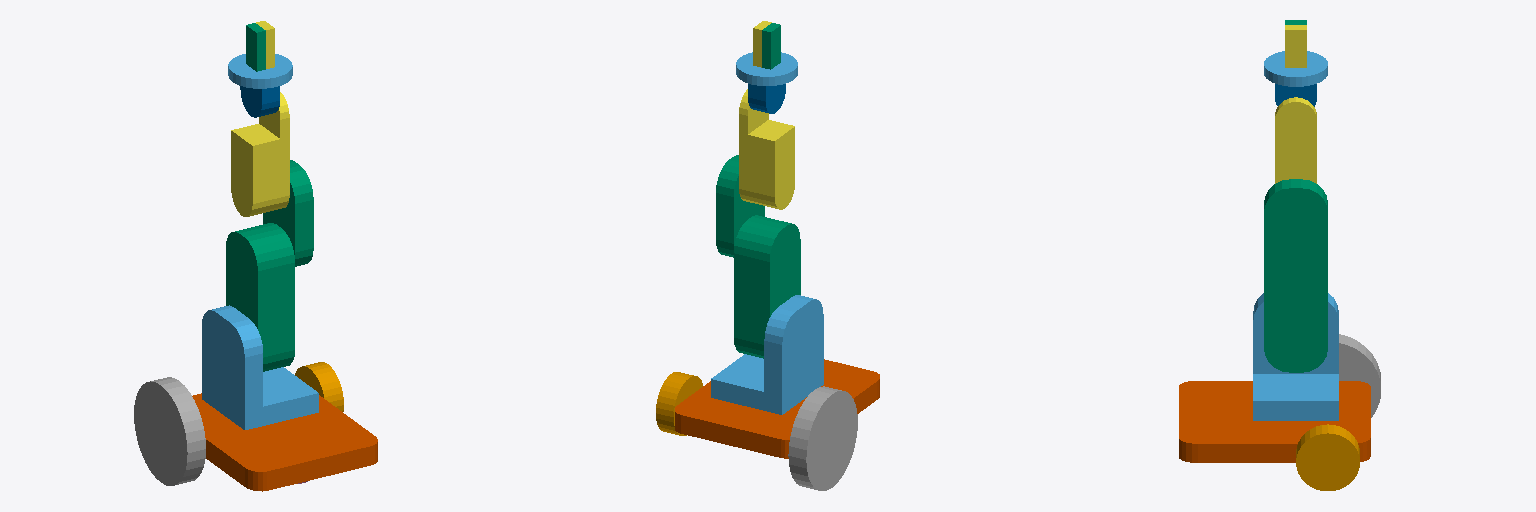
robot.urdf — robotics-project:
<robot name="robotics-project" version="1.0">
  <joint name="arm_base_link_joint" type="fixed">
    <origin rpy="0.00000 0.00000 0.00000" xyz="0.00000 0.40000 0.20000"/>
    <parent link="base_body_link"/>
    <child link="arm_base_link"/>
  </joint>
  <joint name="arm_lower_link_joint" type="continuous">
    <limit lower="0.00000" upper="0.00000" effort="0.00000" velocity="0.00000"/>
    <origin rpy="0.00000 0.00000 0.00000" xyz="0.00000 0.00000 0.20000"/>
    <parent link="arm_base_link"/>
    <child link="arm_lower_link"/>
    <axis xyz="0.00000 0.00000 1.00000"/>
  </joint>
  <joint name="arm_mid_link_joint" type="revolute">
    <limit lower="-3.14000" upper="3.14000" effort="0.00000" velocity="0.00000"/>
    <origin rpy="0.00000 0.00000 0.00000" xyz="0.00000 -0.00000 1.40000"/>
    <parent link="arm_lower_link"/>
    <child link="arm_mid_link"/>
    <axis xyz="1.00000 0.00000 0.00000"/>
  </joint>
  <joint name="arm_upper_link_joint" type="revolute">
    <limit lower="-3.14000" upper="3.14000" effort="0.00000" velocity="0.00000"/>
    <origin rpy="0.00000 0.00000 0.00000" xyz="0.00000 0.00000 3.00000"/>
    <parent link="arm_mid_link"/>
    <child link="arm_upper_link"/>
    <axis xyz="1.00000 0.00000 0.00000"/>
  </joint>
  <joint name="arm_wrist_link_joint" type="revolute">
    <limit lower="-3.14000" upper="3.14000" effort="0.00000" velocity="0.00000"/>
    <origin rpy="0.00000 0.00000 0.00000" xyz="0.00000 0.00000 1.80000"/>
    <parent link="arm_upper_link"/>
    <child link="arm_wrist_link"/>
    <axis xyz="1.00000 0.00000 0.00000"/>
  </joint>
  <joint name="base_caster_link_joint" type="fixed">
    <origin rpy="0.00000 0.00000 0.00000" xyz="0.00000 -1.00000 -0.20000"/>
    <parent link="base_body_link"/>
    <child link="base_caster_link"/>
  </joint>
  <joint name="base_wheel_l_link_joint" type="continuous">
    <limit lower="0.00000" upper="0.00000" effort="0.00000" velocity="0.00000"/>
    <origin rpy="0.00000 0.00000 0.00000" xyz="-1.40000 1.00000 0.00000"/>
    <parent link="base_body_link"/>
    <child link="base_wheel_l_link"/>
    <axis xyz="-1.00000 0.00000 0.00000"/>
  </joint>
  <joint name="base_wheel_r_link_joint" type="continuous">
    <limit lower="0.00000" upper="0.00000" effort="0.00000" velocity="0.00000"/>
    <origin rpy="0.00000 0.00000 0.00000" xyz="1.40000 1.00000 0.00000"/>
    <parent link="base_body_link"/>
    <child link="base_wheel_r_link"/>
    <axis xyz="1.00000 0.00000 0.00000"/>
  </joint>
  <joint name="gripper_base_link_joint" type="fixed">
    <origin rpy="0.00000 0.00000 0.00000" xyz="0.00000 0.00000 0.70000"/>
    <parent link="arm_wrist_link"/>
    <child link="gripper_base_link"/>
  </joint>
  <joint name="gripper_l_link_joint" type="prismatic">
    <limit lower="0.00000" upper="0.40000" effort="0.00000" velocity="0.00000"/>
    <origin rpy="0.00000 0.00000 0.00000" xyz="-0.10000 0.00000 0.10000"/>
    <parent link="gripper_base_link"/>
    <child link="gripper_l_link"/>
    <axis xyz="-1.00000 0.00000 0.00000"/>
  </joint>
  <joint name="gripper_r_link_joint" type="prismatic">
    <limit lower="0.00000" upper="0.40000" effort="0.00000" velocity="0.00000"/>
    <origin rpy="0.00000 0.00000 0.00000" xyz="0.10000 0.00000 0.10000"/>
    <parent link="gripper_base_link"/>
    <child link="gripper_r_link"/>
    <axis xyz="1.00000 0.00000 0.00000"/>
  </joint>
  <link name="arm_base_link">
    <collision name="arm_base_collision">
      <origin rpy="0.00000 0.00000 0.00000" xyz="0.00000 0.00000 0.10000"/>
      <geometry>
        <cylinder radius="0.40000" length="0.20000"/>
      </geometry>
    </collision>
    <inertial>
      <inertia ixx="0.00433" ixy="0.00000" ixz="0.00000" iyy="0.00433" iyz="0.00000" izz="0.00800"/>
      <origin rpy="0.00000 0.00000 0.00000" xyz="0.00000 0.00000 0.10000"/>
      <mass value="0.10000"/>
    </inertial>
    <visual name="arm_base">
      <origin rpy="0.00000 0.00000 0.00000" xyz="0.00000 0.00000 0.10000"/>
      <geometry>
        <mesh filename="package://robotics-project/meshes/stl/arm_base.stl" scale="1.00000 1.00000 1.00000"/>
      </geometry>
    </visual>
  </link>
  <link name="arm_lower_link">
    <collision name="arm_lower_collision">
      <origin rpy="0.00000 0.00000 0.00000" xyz="0.00000 0.00000 0.20000"/>
      <geometry>
        <box size="1.60000 1.60000 0.40000"/>
      </geometry>
    </collision>
    <collision name="arm_lower_l_collision">
      <origin rpy="0.00000 0.00000 0.00000" xyz="-0.60000 0.00000 1.20000"/>
      <geometry>
        <box size="0.40000 1.60000 1.60000"/>
      </geometry>
    </collision>
    <collision name="arm_lower_r_collision">
      <origin rpy="0.00000 0.00000 0.00000" xyz="0.60000 0.00000 1.20000"/>
      <geometry>
        <box size="0.40000 1.60000 1.60000"/>
      </geometry>
    </collision>
    <inertial>
      <inertia ixx="0.10800" ixy="0.00000" ixz="0.00000" iyy="0.06800" iyz="0.00000" izz="0.08800"/>
      <origin rpy="0.00000 0.00000 0.00000" xyz="0.00000 0.00000 0.86667"/>
      <mass value="0.30000"/>
    </inertial>
    <visual name="arm_lower">
      <origin rpy="0.00000 0.00000 0.00000" xyz="0.00000 0.00000 0.20000"/>
      <geometry>
        <mesh filename="package://robotics-project/meshes/stl/arm_lower.stl" scale="1.00000 1.00000 1.00000"/>
      </geometry>
    </visual>
    <visual name="arm_lower_l">
      <origin rpy="0.00000 0.00000 0.00000" xyz="-0.60000 0.00000 1.20000"/>
      <geometry>
        <mesh filename="package://robotics-project/meshes/stl/arm_lower_l.stl" scale="1.00000 1.00000 1.00000"/>
      </geometry>
    </visual>
    <visual name="arm_lower_r">
      <origin rpy="0.00000 0.00000 0.00000" xyz="0.60000 0.00000 1.20000"/>
      <geometry>
        <mesh filename="package://robotics-project/meshes/stl/arm_lower_r.stl" scale="1.00000 1.00000 1.00000"/>
      </geometry>
    </visual>
  </link>
  <link name="arm_mid_link">
    <collision name="arm_mid_collision">
      <origin rpy="0.00000 0.00000 0.00000" xyz="0.00000 0.00000 0.80000"/>
      <geometry>
        <box size="0.80000 1.20000 2.80000"/>
      </geometry>
    </collision>
    <collision name="arm_mid_l_collision">
      <origin rpy="0.00000 0.00000 0.00000" xyz="-0.60000 0.00000 2.40000"/>
      <geometry>
        <box size="0.40000 1.20000 2.00000"/>
      </geometry>
    </collision>
    <collision name="arm_mid_r_collision">
      <origin rpy="0.00000 0.00000 0.00000" xyz="0.60000 0.00000 2.40000"/>
      <geometry>
        <box size="0.40000 1.20000 2.00000"/>
      </geometry>
    </collision>
    <inertial>
      <inertia ixx="0.16800" ixy="0.00000" ixz="0.00000" iyy="0.14000" iyz="0.00000" izz="0.04400"/>
      <origin rpy="0.00000 0.00000 0.00000" xyz="0.00000 0.00000 1.86667"/>
      <mass value="0.30000"/>
    </inertial>
    <visual name="arm_mid">
      <origin rpy="0.00000 0.00000 0.00000" xyz="0.00000 0.00000 0.80000"/>
      <geometry>
        <mesh filename="package://robotics-project/meshes/stl/arm_mid.stl" scale="1.00000 1.00000 1.00000"/>
      </geometry>
    </visual>
    <visual name="arm_mid_l">
      <origin rpy="0.00000 0.00000 0.00000" xyz="-0.60000 0.00000 2.40000"/>
      <geometry>
        <mesh filename="package://robotics-project/meshes/stl/arm_mid_l.stl" scale="1.00000 1.00000 1.00000"/>
      </geometry>
    </visual>
    <visual name="arm_mid_r">
      <origin rpy="0.00000 0.00000 0.00000" xyz="0.60000 0.00000 2.40000"/>
      <geometry>
        <mesh filename="package://robotics-project/meshes/stl/arm_mid_r.stl" scale="1.00000 1.00000 1.00000"/>
      </geometry>
    </visual>
  </link>
  <link name="arm_upper_link">
    <collision name="arm_upper_collision">
      <origin rpy="0.00000 0.00000 0.00000" xyz="0.00000 0.00000 0.40000"/>
      <geometry>
        <box size="0.80000 0.80000 1.60000"/>
      </geometry>
    </collision>
    <collision name="arm_upper_l_collision">
      <origin rpy="0.00000 0.00000 0.00000" xyz="-0.30000 0.00000 1.60000"/>
      <geometry>
        <box size="0.20000 0.80000 0.80000"/>
      </geometry>
    </collision>
    <collision name="arm_upper_r_collision">
      <origin rpy="0.00000 0.00000 0.00000" xyz="0.30000 0.00000 1.60000"/>
      <geometry>
        <box size="0.20000 0.80000 0.80000"/>
      </geometry>
    </collision>
    <inertial>
      <inertia ixx="0.04800" ixy="0.00000" ixz="0.00000" iyy="0.03800" iyz="0.00000" izz="0.02200"/>
      <origin rpy="0.00000 0.00000 0.00000" xyz="0.00000 0.00000 1.20000"/>
      <mass value="0.30000"/>
    </inertial>
    <visual name="arm_upper">
      <origin rpy="0.00000 0.00000 0.00000" xyz="0.00000 0.00000 0.40000"/>
      <geometry>
        <mesh filename="package://robotics-project/meshes/stl/arm_upper.stl" scale="1.00000 1.00000 1.00000"/>
      </geometry>
    </visual>
    <visual name="arm_upper_l">
      <origin rpy="0.00000 0.00000 0.00000" xyz="-0.30000 0.00000 1.60000"/>
      <geometry>
        <mesh filename="package://robotics-project/meshes/stl/arm_upper_l.stl" scale="1.00000 1.00000 1.00000"/>
      </geometry>
    </visual>
    <visual name="arm_upper_r">
      <origin rpy="0.00000 0.00000 0.00000" xyz="0.30000 0.00000 1.60000"/>
      <geometry>
        <mesh filename="package://robotics-project/meshes/stl/arm_upper_r.stl" scale="1.00000 1.00000 1.00000"/>
      </geometry>
    </visual>
  </link>
  <link name="arm_wrist_link">
    <collision name="arm_wrist_collision">
      <origin rpy="0.00000 0.00000 0.00000" xyz="0.00000 0.00000 0.20000"/>
      <geometry>
        <box size="0.40000 0.80000 0.80000"/>
      </geometry>
    </collision>
    <inertial>
      <inertia ixx="0.01067" ixy="0.00000" ixz="0.00000" iyy="0.00667" iyz="0.00000" izz="0.00667"/>
      <origin rpy="0.00000 0.00000 0.00000" xyz="0.00000 0.00000 0.20000"/>
      <mass value="0.10000"/>
    </inertial>
    <visual name="arm_wrist">
      <origin rpy="0.00000 0.00000 0.00000" xyz="0.00000 0.00000 0.20000"/>
      <geometry>
        <mesh filename="package://robotics-project/meshes/stl/arm_wrist.stl" scale="1.00000 1.00000 1.00000"/>
      </geometry>
    </visual>
  </link>
  <link name="base_body_link">
    <collision name="base_body_collision">
      <origin rpy="0.00000 0.00000 0.00000" xyz="0.00000 0.00000 0.00000"/>
      <geometry>
        <box size="2.80000 3.60000 0.40000"/>
      </geometry>
    </collision>
    <inertial>
      <inertia ixx="0.10933" ixy="0.00000" ixz="0.00000" iyy="0.06667" iyz="0.00000" izz="0.17333"/>
      <origin rpy="0.00000 0.00000 0.00000" xyz="0.00000 0.00000 0.00000"/>
      <mass value="0.10000"/>
    </inertial>
    <visual name="base_body">
      <origin rpy="0.00000 0.00000 0.00000" xyz="0.00000 0.00000 0.00000"/>
      <geometry>
        <mesh filename="package://robotics-project/meshes/stl/base_body.stl" scale="1.00000 1.00000 1.00000"/>
      </geometry>
    </visual>
  </link>
  <link name="base_caster_link">
    <collision name="base_caster_collision">
      <origin rpy="0.00000 0.00000 0.00000" xyz="0.00000 0.00000 0.00000"/>
      <geometry>
        <sphere radius="0.41569"/>
      </geometry>
    </collision>
    <inertial>
      <inertia ixx="0.00691" ixy="0.00000" ixz="0.00000" iyy="0.00691" iyz="0.00000" izz="0.00691"/>
      <origin rpy="0.00000 0.00000 0.00000" xyz="0.00000 0.00000 0.00000"/>
      <mass value="0.10000"/>
    </inertial>
    <visual name="base_caster">
      <origin rpy="0.00000 0.00000 0.00000" xyz="0.00000 0.00000 0.00000"/>
      <geometry>
        <mesh filename="package://robotics-project/meshes/stl/base_caster.stl" scale="1.00000 1.00000 1.00000"/>
      </geometry>
    </visual>
  </link>
  <link name="base_wheel_l_link">
    <collision name="base_wheel_l_collision">
      <origin rpy="-0.00000 1.57080 0.00000" xyz="-0.20000 0.00000 0.00000"/>
      <geometry>
        <cylinder radius="0.60000" length="0.40000"/>
      </geometry>
    </collision>
    <inertial>
      <inertia ixx="0.01800" ixy="0.00000" ixz="0.00000" iyy="0.01033" iyz="0.00000" izz="0.01033"/>
      <origin rpy="0.00000 0.00000 0.00000" xyz="-0.20000 0.00000 0.00000"/>
      <mass value="0.10000"/>
    </inertial>
    <visual name="base_wheel_l">
      <origin rpy="0.00000 0.00000 0.00000" xyz="-0.20000 0.00000 0.00000"/>
      <geometry>
        <mesh filename="package://robotics-project/meshes/stl/base_wheel_l.stl" scale="1.00000 1.00000 1.00000"/>
      </geometry>
    </visual>
  </link>
  <link name="base_wheel_r_link">
    <collision name="base_wheel_r_collision">
      <origin rpy="-0.00000 1.57080 0.00000" xyz="0.20000 0.00000 0.00000"/>
      <geometry>
        <cylinder radius="0.60000" length="0.40000"/>
      </geometry>
    </collision>
    <inertial>
      <inertia ixx="0.01800" ixy="0.00000" ixz="0.00000" iyy="0.01033" iyz="0.00000" izz="0.01033"/>
      <origin rpy="0.00000 0.00000 0.00000" xyz="0.20000 0.00000 0.00000"/>
      <mass value="0.10000"/>
    </inertial>
    <visual name="base_wheel_r">
      <origin rpy="0.00000 0.00000 0.00000" xyz="0.20000 0.00000 0.00000"/>
      <geometry>
        <mesh filename="package://robotics-project/meshes/stl/base_wheel_r.stl" scale="1.00000 1.00000 1.00000"/>
      </geometry>
    </visual>
  </link>
  <link name="gripper_base_link">
    <collision name="gripper_base_collision">
      <origin rpy="0.00000 0.00000 0.00000" xyz="0.00000 0.00000 0.00000"/>
      <geometry>
        <cylinder radius="0.60000" length="0.20000"/>
      </geometry>
    </collision>
    <inertial>
      <inertia ixx="0.00933" ixy="0.00000" ixz="0.00000" iyy="0.00933" iyz="0.00000" izz="0.01800"/>
      <origin rpy="0.00000 0.00000 0.00000" xyz="0.00000 0.00000 0.00000"/>
      <mass value="0.10000"/>
    </inertial>
    <visual name="gripper_base">
      <origin rpy="0.00000 0.00000 0.00000" xyz="0.00000 0.00000 0.00000"/>
      <geometry>
        <mesh filename="package://robotics-project/meshes/stl/gripper_base.stl" scale="1.00000 1.00000 1.00000"/>
      </geometry>
    </visual>
  </link>
  <link name="gripper_l_link">
    <collision name="gripper_l_collision">
      <origin rpy="0.00000 0.00000 0.00000" xyz="0.00000 0.00000 0.40000"/>
      <geometry>
        <box size="0.20000 0.40000 0.80000"/>
      </geometry>
    </collision>
    <inertial>
      <inertia ixx="0.00667" ixy="0.00000" ixz="0.00000" iyy="0.00567" iyz="0.00000" izz="0.00167"/>
      <origin rpy="0.00000 0.00000 0.00000" xyz="0.00000 0.00000 0.40000"/>
      <mass value="0.10000"/>
    </inertial>
    <visual name="gripper_l">
      <origin rpy="0.00000 0.00000 0.00000" xyz="0.00000 0.00000 0.40000"/>
      <geometry>
        <mesh filename="package://robotics-project/meshes/stl/gripper_l.stl" scale="1.00000 1.00000 1.00000"/>
      </geometry>
    </visual>
  </link>
  <link name="gripper_r_link">
    <collision name="gripper_r_collision">
      <origin rpy="0.00000 0.00000 0.00000" xyz="0.00000 0.00000 0.40000"/>
      <geometry>
        <box size="0.20000 0.40000 0.80000"/>
      </geometry>
    </collision>
    <inertial>
      <inertia ixx="0.00667" ixy="0.00000" ixz="0.00000" iyy="0.00567" iyz="0.00000" izz="0.00167"/>
      <origin rpy="0.00000 0.00000 0.00000" xyz="0.00000 0.00000 0.40000"/>
      <mass value="0.10000"/>
    </inertial>
    <visual name="gripper_r">
      <origin rpy="0.00000 0.00000 0.00000" xyz="0.00000 0.00000 0.40000"/>
      <geometry>
        <mesh filename="package://robotics-project/meshes/stl/gripper_r.stl" scale="1.00000 1.00000 1.00000"/>
      </geometry>
    </visual>
  </link>
</robot>

--- Facts derived from the render (not from the file) ---
The picture shows the robot from 3 angles, left to right: view 1: azimuth 30°, elevation 25°; view 2: azimuth 150°, elevation 25°; view 3: azimuth 270°, elevation 25°; orthographic projection.
Robot: robotics-project — 12 links, 11 joints (3 revolute, 3 continuous, 2 prismatic, 3 fixed); root link base_body_link; default pose: all joints at 0.
Links seen in each view (by area): view 1: base_body_link, arm_mid_link, arm_lower_link, base_wheel_l_link, arm_upper_link, gripper_base_link, base_wheel_r_link, arm_wrist_link, gripper_l_link; view 2: arm_mid_link, arm_lower_link, base_body_link, base_wheel_l_link, arm_upper_link, base_wheel_r_link, gripper_base_link, arm_wrist_link, gripper_l_link; view 3: arm_mid_link, base_body_link, arm_lower_link, base_wheel_r_link, arm_upper_link, base_wheel_l_link, gripper_base_link, gripper_r_link, arm_wrist_link.
Link boxes in pixels (x1=…): base_body_link: x1=192, y1=393, x2=377, y2=491; arm_mid_link: x1=226, y1=160, x2=313, y2=371; arm_lower_link: x1=202, y1=305, x2=318, y2=429; base_wheel_l_link: x1=134, y1=377, x2=205, y2=485; arm_upper_link: x1=231, y1=92, x2=289, y2=216; gripper_base_link: x1=228, y1=54, x2=292, y2=88; base_wheel_r_link: x1=295, y1=362, x2=343, y2=411; arm_wrist_link: x1=240, y1=86, x2=279, y2=117; gripper_l_link: x1=246, y1=23, x2=265, y2=71; arm_mid_link: x1=716, y1=155, x2=800, y2=358; arm_lower_link: x1=711, y1=295, x2=823, y2=414; base_body_link: x1=675, y1=359, x2=879, y2=458; base_wheel_l_link: x1=788, y1=386, x2=857, y2=490; arm_upper_link: x1=739, y1=89, x2=794, y2=209; base_wheel_r_link: x1=656, y1=372, x2=702, y2=435; gripper_base_link: x1=736, y1=52, x2=797, y2=85; arm_wrist_link: x1=748, y1=84, x2=785, y2=113; gripper_l_link: x1=762, y1=23, x2=780, y2=69; arm_mid_link: x1=1264, y1=179, x2=1327, y2=372; base_body_link: x1=1179, y1=381, x2=1370, y2=462; arm_lower_link: x1=1253, y1=293, x2=1338, y2=420; base_wheel_r_link: x1=1296, y1=424, x2=1359, y2=490; arm_upper_link: x1=1275, y1=97, x2=1316, y2=183; base_wheel_l_link: x1=1339, y1=334, x2=1380, y2=417; gripper_base_link: x1=1264, y1=51, x2=1327, y2=86; gripper_r_link: x1=1285, y1=25, x2=1306, y2=67; arm_wrist_link: x1=1275, y1=84, x2=1316, y2=106.
Size in the robot's own frame: 3.6 by 3.8 by 9.2 metres.
Meshes: 18 distinct files referenced, 15 mesh visuals loaded (15 binary STL); not drawn: 3 (reference not matched to a file when rendering).